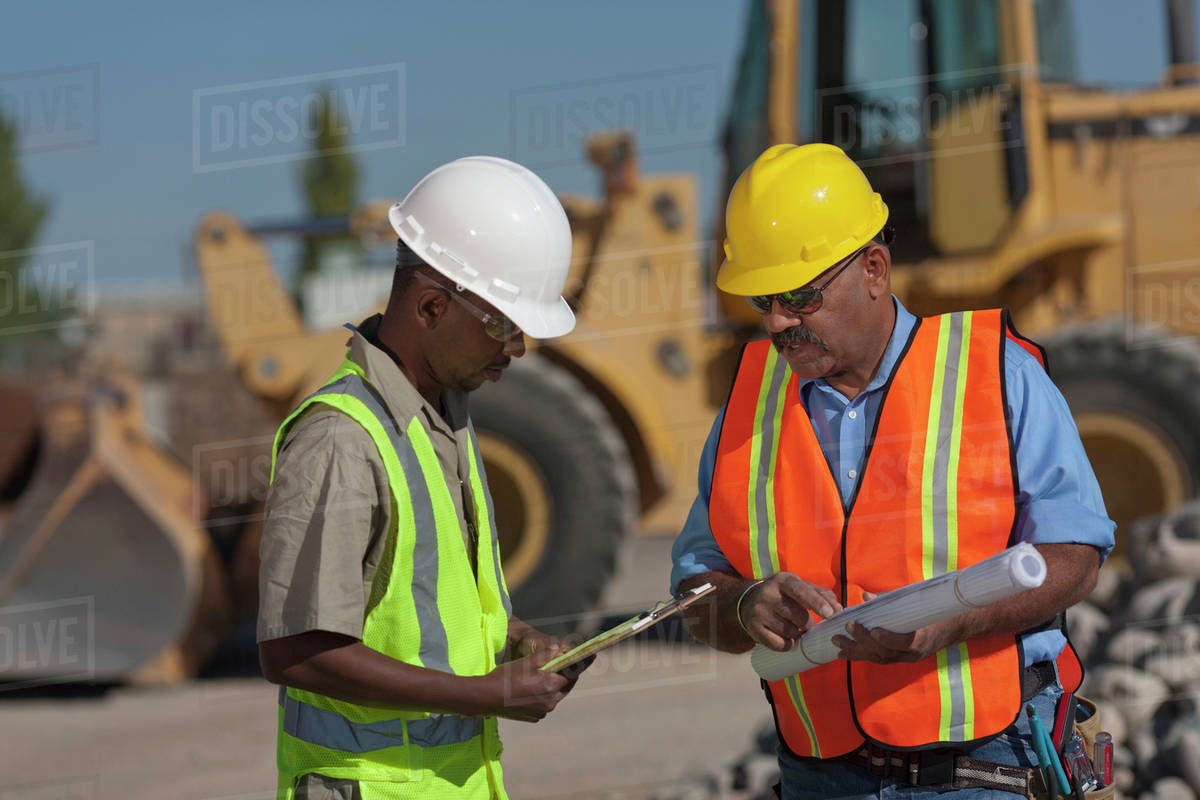white: (380, 154, 572, 396)
yellow: (719, 146, 900, 377)
